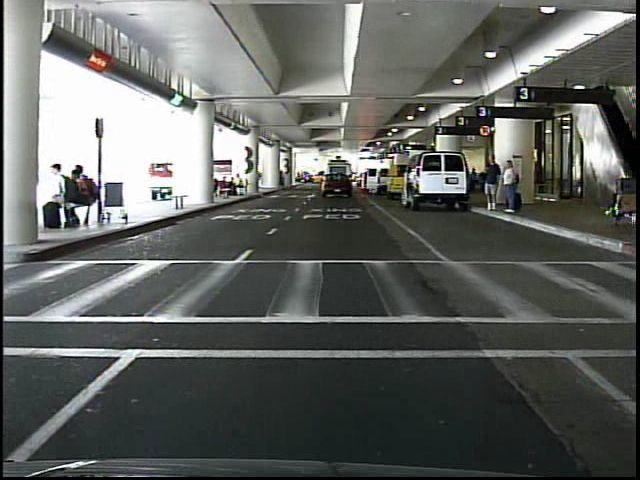person: (501, 156, 522, 220), (481, 151, 501, 217), (322, 170, 333, 194)
